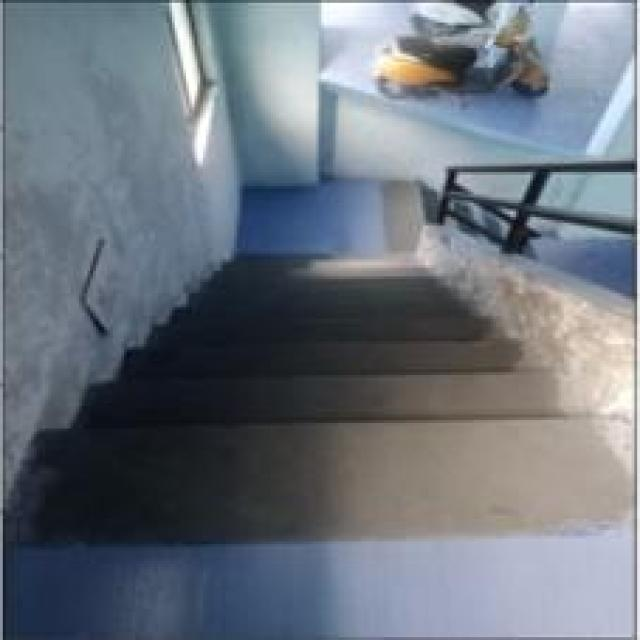downstair: (100, 339, 525, 500)
